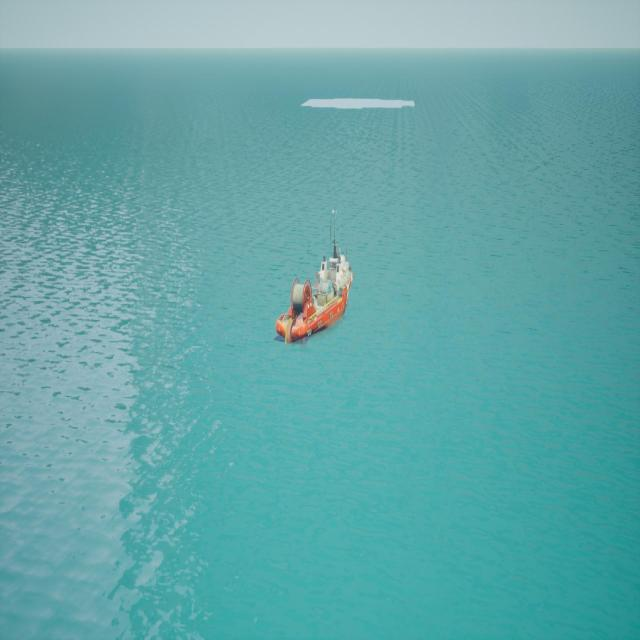tug boat: (277, 209, 353, 350)
